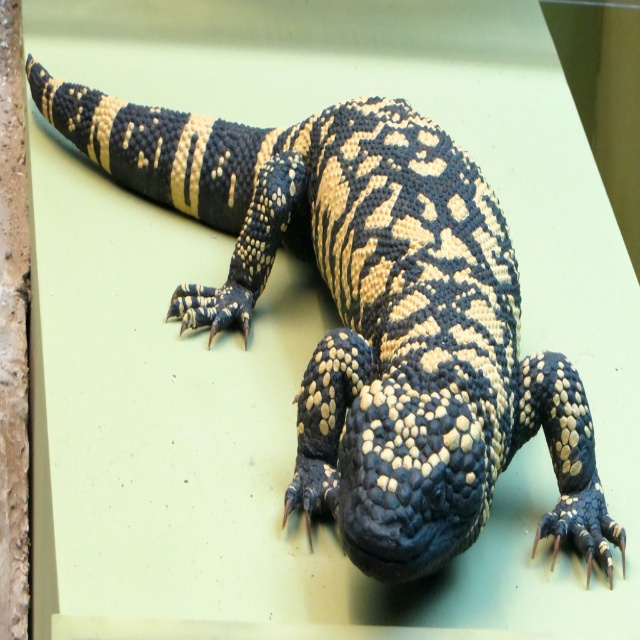Lizard: (40, 70, 628, 614)
